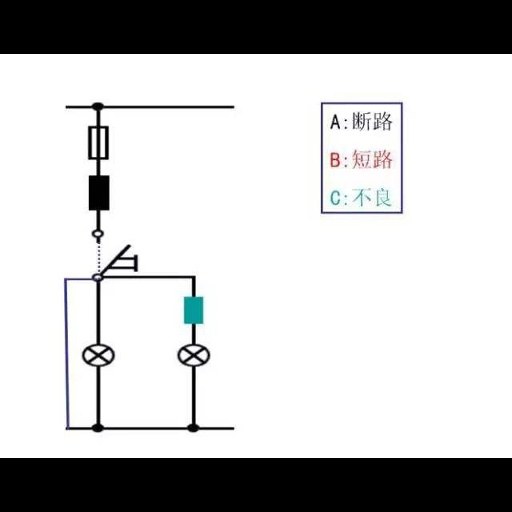firstresistance: (84, 172, 117, 216), (178, 291, 212, 329)
fuse: (82, 122, 118, 162)
light: (174, 338, 214, 372), (78, 341, 118, 369)
